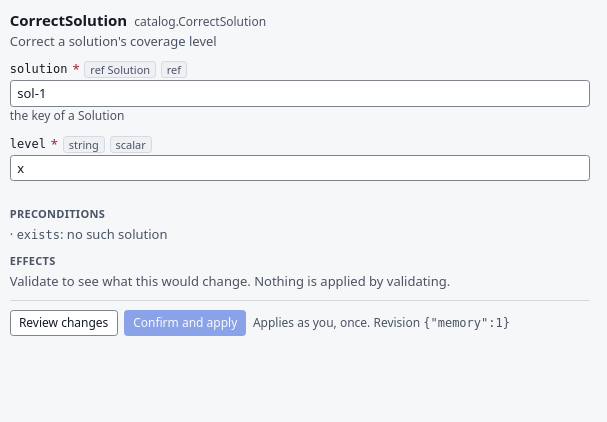
Test: Safety (US-064) › US-064-AC4: an error body is shown by type and message only; a backend's detail is never in the UI
The width and height of the screenshot is (607, 422).
Click the button with test id "validate" at (64, 323), box [10, 310, 118, 336]
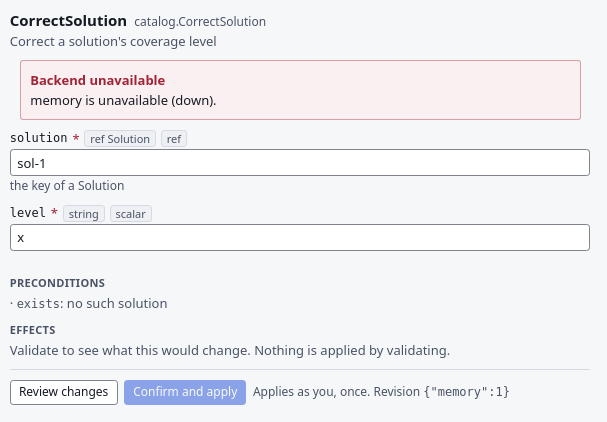
Now the message shows "Backend unavailable", box [30, 71, 165, 89]
Now the message shows "memory", box [30, 91, 217, 109]
